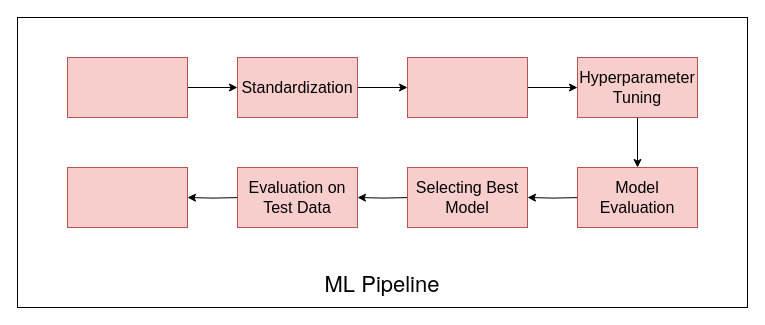
The diagram is 765 pixels wide and 325 high, and some of its shapes have lost their labels. The shapes that lost their labels are listed below. From the top down, each one's centre as x and y in pixels, then its label:
point 127,87: Dataset Splitting
point 467,87: Model Selection
point 127,197: Model Comparison
